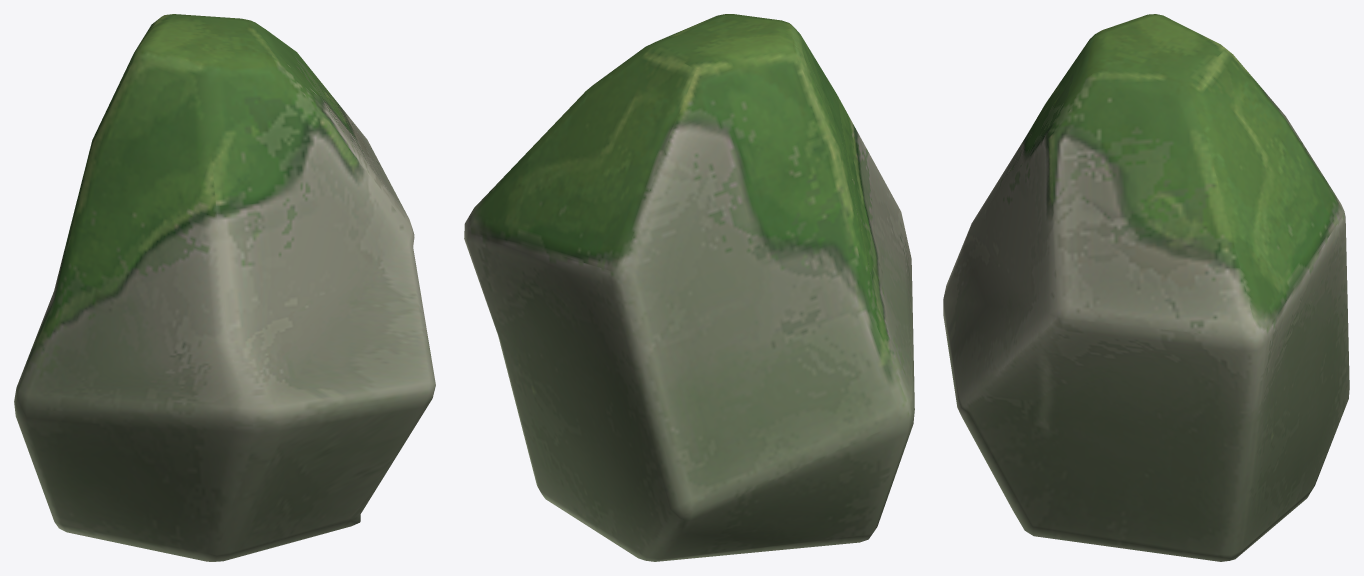
Rendered from NormalRock9.fbx.
The picture shows the model from 3 angles, left to right: view 1: azimuth 30°, elevation 25°; view 2: azimuth 150°, elevation 25°; view 3: azimuth 270°, elevation 25°; orthographic projection. The views are drawn at different scales.
Parts seen in each view (by area): view 1: NormalRock9; view 2: NormalRock9; view 3: NormalRock9.
Part boxes in pixels (x1,y1,x2,y2): NormalRock9: [14, 14, 435, 561]; NormalRock9: [464, 14, 914, 561]; NormalRock9: [943, 14, 1349, 561].
Bounding box in the file's own units: 0.9655 × 1.1 × 0.8893.
